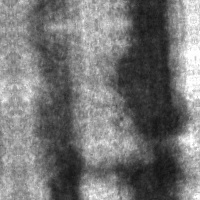patches: (32, 38, 84, 199), (114, 21, 184, 140), (115, 142, 188, 199)
